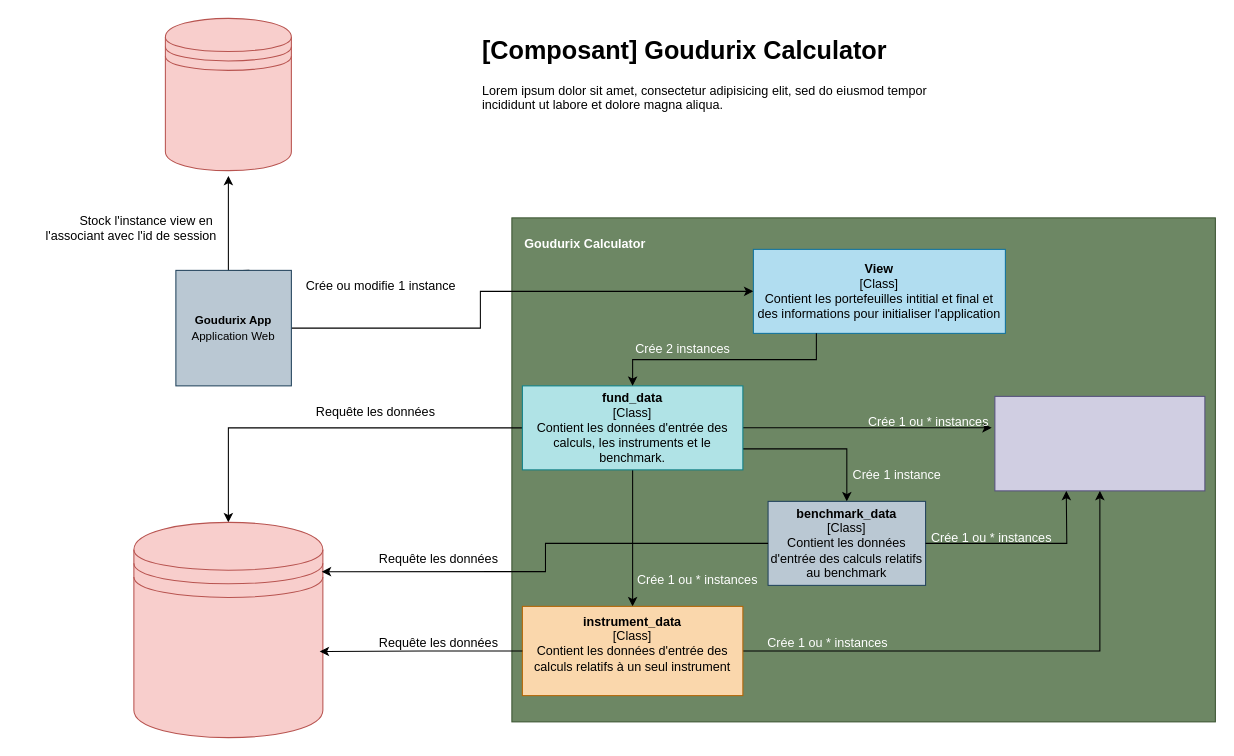
The diagram is 1234 pixels wide and 756 high, and some of its shapes have lost their labels. The shapes that lost their labels are listed below. From the top down, each one's centre as x and y in pixels, then its label:
At (x=227, y=94): "views_database Dictionnaire Python".
At (x=1099, y=443): "metrics [Class] Contient l'ensemble des métriques auxquels on s'intérésse".
At (x=228, y=629): "Reflix Base de données".
